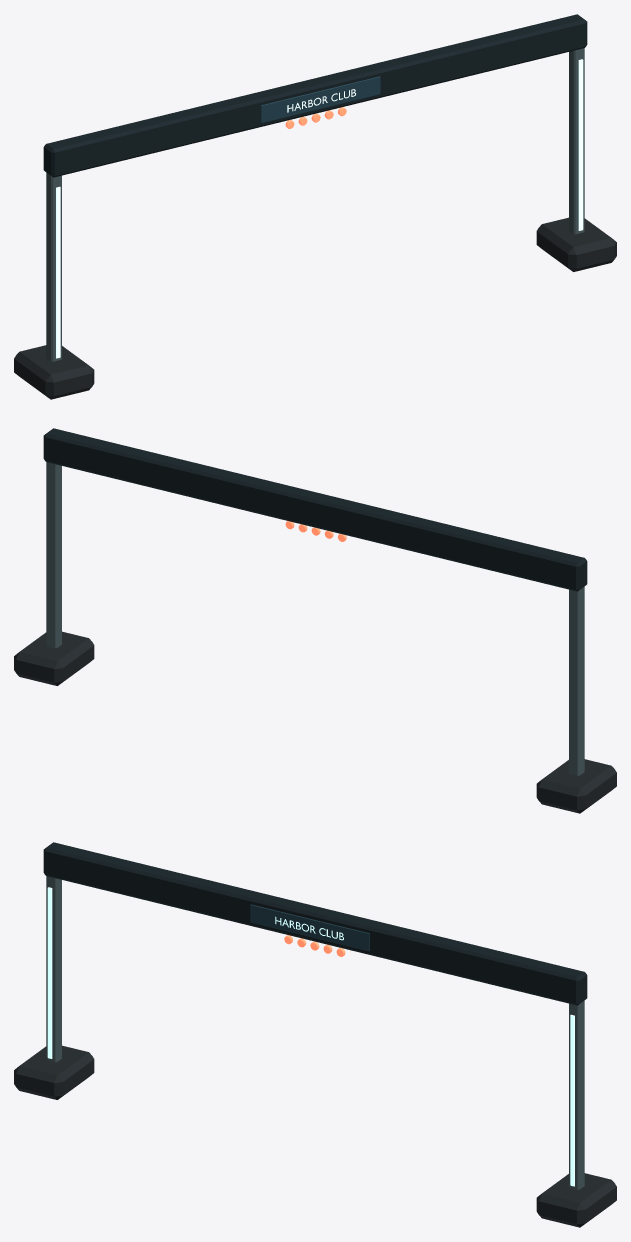
The model's file is club-race-gate.high.glb.
3 renders of one model, top to bottom at view 1: azimuth 30°, elevation 25°; view 2: azimuth 150°, elevation 25°; view 3: azimuth 330°, elevation 25°, orthographic.
Parts seen in each view (by area): view 1: geometry:body:1, geometry:body:0, geometry:body:2, geometry:body:5, geometry:body:4; view 2: geometry:body:1, geometry:body:2, geometry:body:0; view 3: geometry:body:1, geometry:body:0, geometry:body:2, geometry:body:5, geometry:body:4.
Part boxes in pixels (<box>): geometry:body:1: <box>43,14,587,177</box>; geometry:body:0: <box>14,217,616,399</box>; geometry:body:2: <box>46,48,584,361</box>; geometry:body:5: <box>261,76,380,123</box>; geometry:body:4: <box>56,59,583,358</box>; geometry:body:1: <box>43,428,587,591</box>; geometry:body:2: <box>46,462,584,775</box>; geometry:body:0: <box>14,631,616,813</box>; geometry:body:1: <box>43,842,587,1005</box>; geometry:body:0: <box>14,1045,616,1227</box>; geometry:body:2: <box>46,876,584,1189</box>; geometry:body:5: <box>250,904,369,951</box>; geometry:body:4: <box>47,887,574,1186</box>.
Size of the model in its own units: 10.5 by 4.18 by 1.2.
